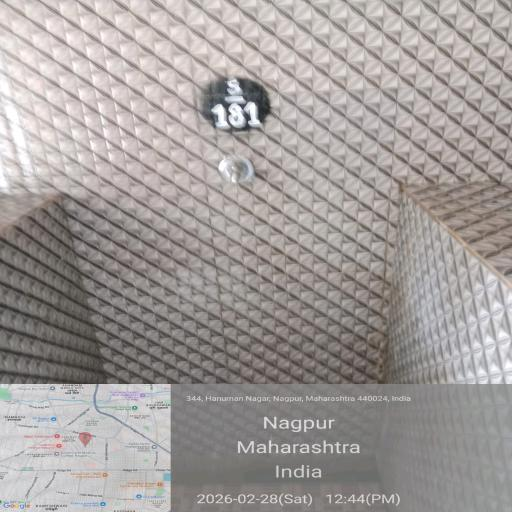clean_floor: (34, 32, 497, 488)
